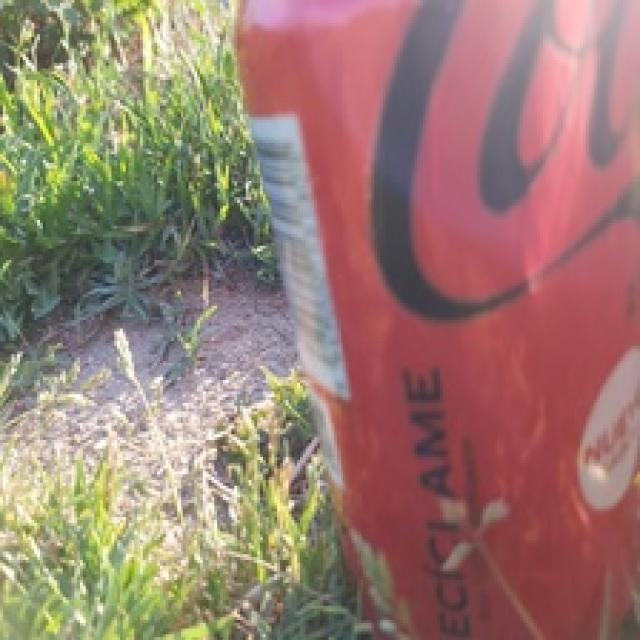recyclable: (231, 0, 640, 640)
